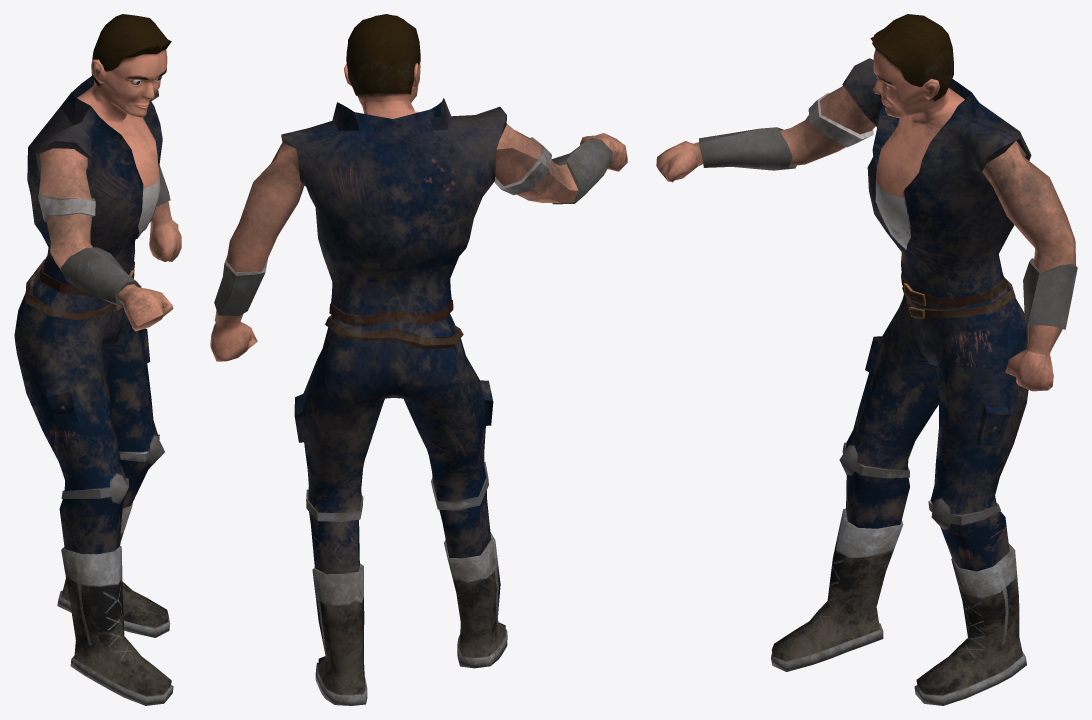
Rendered from Anim_puerta_mal_jugador.0022.obj.
3 views of the same model, side by side, from view 1: azimuth 30°, elevation 25°; view 2: azimuth 150°, elevation 25°; view 3: azimuth 270°, elevation 25° (orthographic). The views are drawn at different scales.
Parts seen in each view (by area): view 1: polySurface1; view 2: polySurface1; view 3: polySurface1.
Part boxes in pixels (box(x1,y1,x2,y2)): polySurface1: box(14, 14, 181, 705); polySurface1: box(210, 14, 627, 705); polySurface1: box(656, 14, 1077, 705).
Size of the model in its own units: 3.72 by 9.53 by 5.48.
